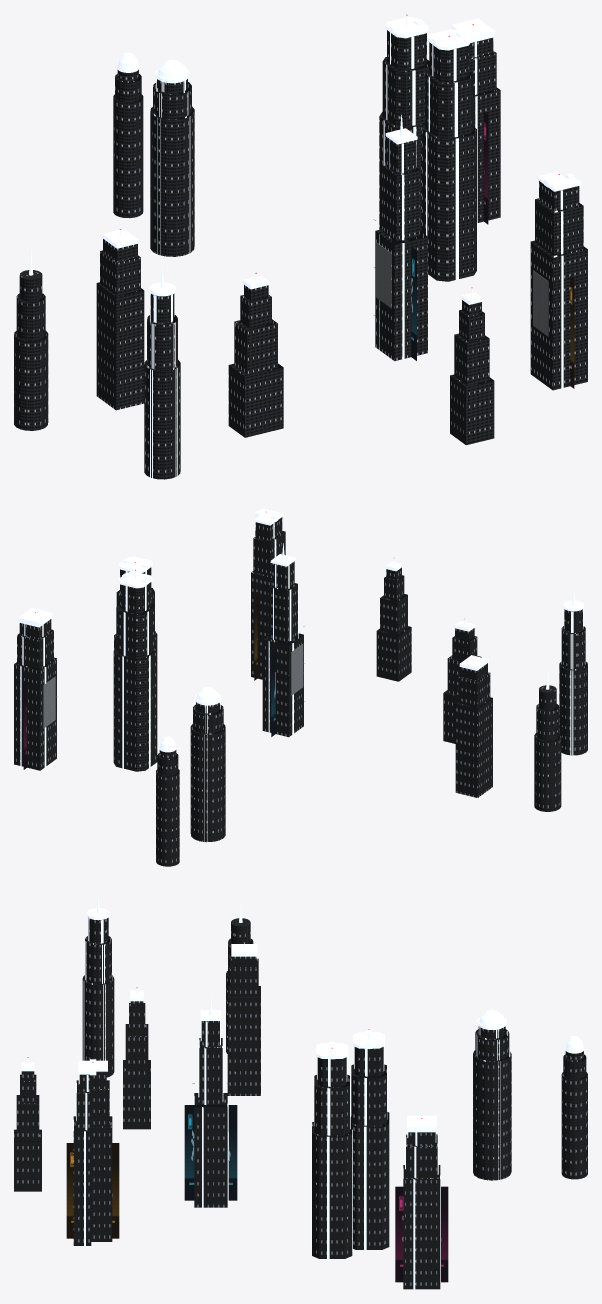
The model's file is lujiazui_backdrop.glb.
3 views of the same model, one above another, from view 1: azimuth 30°, elevation 25°; view 2: azimuth 150°, elevation 25°; view 3: azimuth 270°, elevation 25° (orthographic). The views are drawn at different scales.
Visible parts, largest first — view 1: Tower_IFC_B, Tower_Aurora, Tower_CMB, Tower_HSBC, Tower_BOC, Tower_BoCom, Tower_Citi, Tower_One, Tower_Mirae, Tower_IFC_A, Tower_StdCh, Tower_IFC_C (+10 smaller); view 2: Tower_IFC_A, Tower_CMB, Tower_IFC_C, Tower_HSBC, Tower_BOC, Tower_Citi, Tower_One, Tower_Mirae, Tower_Aurora, Tower_StdCh, Tower_BoCom, LED_Crown_IFC_A (+6 smaller); view 3: Tower_IFC_B, Tower_IFC_A, Tower_Aurora, Tower_HSBC, Tower_IFC_C, Tower_CMB, Tower_BOC, Tower_Citi, Tower_StdCh, Tower_BoCom, Tower_One, LED_Ad_CMB (+10 smaller).
Part boxes in pixels (box(x1,y1,x2,y2)): Tower_IFC_B: box(421, 42, 476, 281); Tower_Aurora: box(530, 181, 587, 390); Tower_CMB: box(375, 137, 427, 361); Tower_HSBC: box(150, 79, 194, 256); Tower_BOC: box(96, 239, 144, 410); Tower_BoCom: box(228, 285, 283, 437); Tower_Citi: box(144, 293, 180, 479); Tower_One: box(450, 300, 494, 445); Tower_Mirae: box(14, 270, 48, 430); Tower_IFC_A: box(379, 30, 432, 231); Tower_StdCh: box(113, 69, 143, 218); Tower_IFC_C: box(469, 37, 500, 222); Tower_IFC_A: box(113, 582, 157, 771); Tower_CMB: box(262, 561, 303, 737); Tower_IFC_C: box(14, 619, 56, 770); Tower_HSBC: box(190, 702, 225, 842); Tower_BOC: box(455, 663, 492, 797); Tower_Citi: box(559, 609, 587, 755); Tower_One: box(376, 567, 411, 681); Tower_Mirae: box(534, 685, 561, 811); Tower_Aurora: box(251, 517, 285, 679); Tower_StdCh: box(156, 750, 179, 866); Tower_BoCom: box(443, 628, 481, 743); LED_Crown_IFC_A: box(118, 571, 152, 768); Tower_IFC_B: box(312, 1057, 352, 1258); Tower_IFC_A: box(349, 1047, 389, 1249); Tower_Aurora: box(73, 1071, 112, 1245); Tower_HSBC: box(473, 1026, 511, 1180); Tower_IFC_C: box(403, 1132, 440, 1289); Tower_CMB: box(194, 1021, 227, 1207); Tower_BOC: box(227, 956, 260, 1095); Tower_Citi: box(82, 917, 114, 1077); Tower_StdCh: box(561, 1051, 587, 1179); Tower_BoCom: box(123, 1001, 150, 1129); Tower_One: box(14, 1071, 41, 1191); LED_Ad_CMB: box(184, 1105, 237, 1200).
Size of what is drawn, in the model's own units: 659 by 267 by 653.
19 materials, 5 textured.
